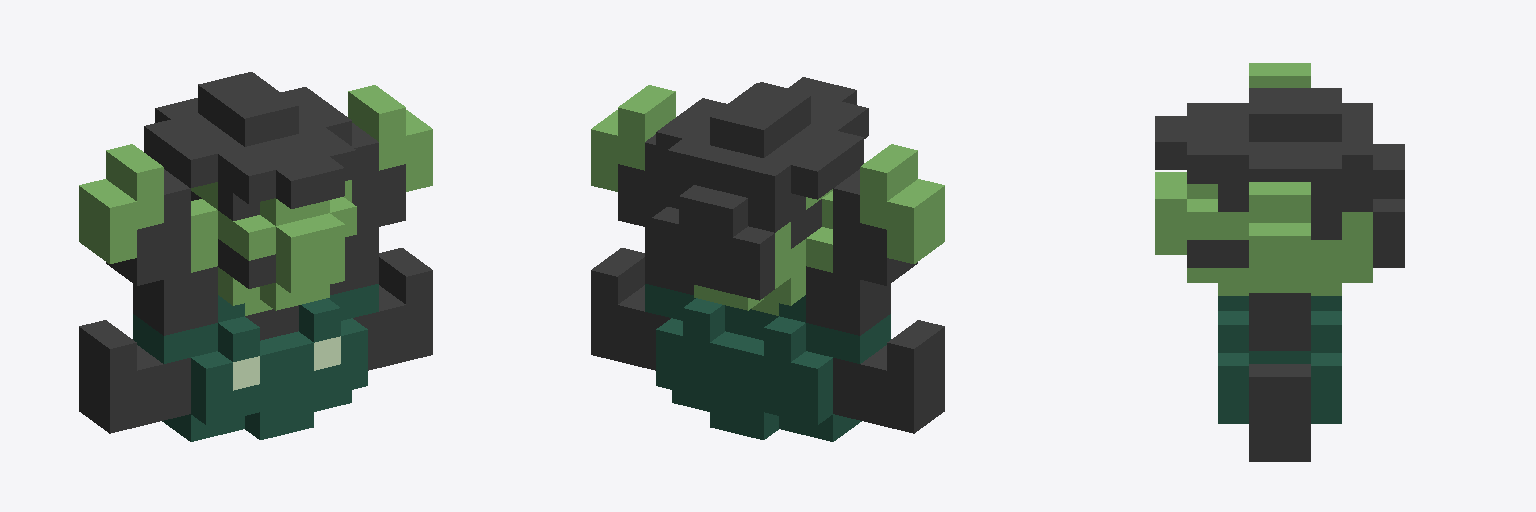
The picture shows the model from 3 angles: view 1: azimuth 30°, elevation 25°; view 2: azimuth 150°, elevation 25°; view 3: azimuth 270°, elevation 25°; orthographic projection.
Parts seen in each view (by area): view 1: object 1; view 2: object 1; view 3: object 1.
Part boxes in pixels (left/top/right/bottom): object 1: left=79, top=72, right=432, bottom=441; object 1: left=591, top=77, right=944, bottom=441; object 1: left=1155, top=63, right=1404, bottom=461.
Bounding box in the file's own units: 1.2 × 1.1 × 0.8.
Materials: 1 (1 with a texture image).